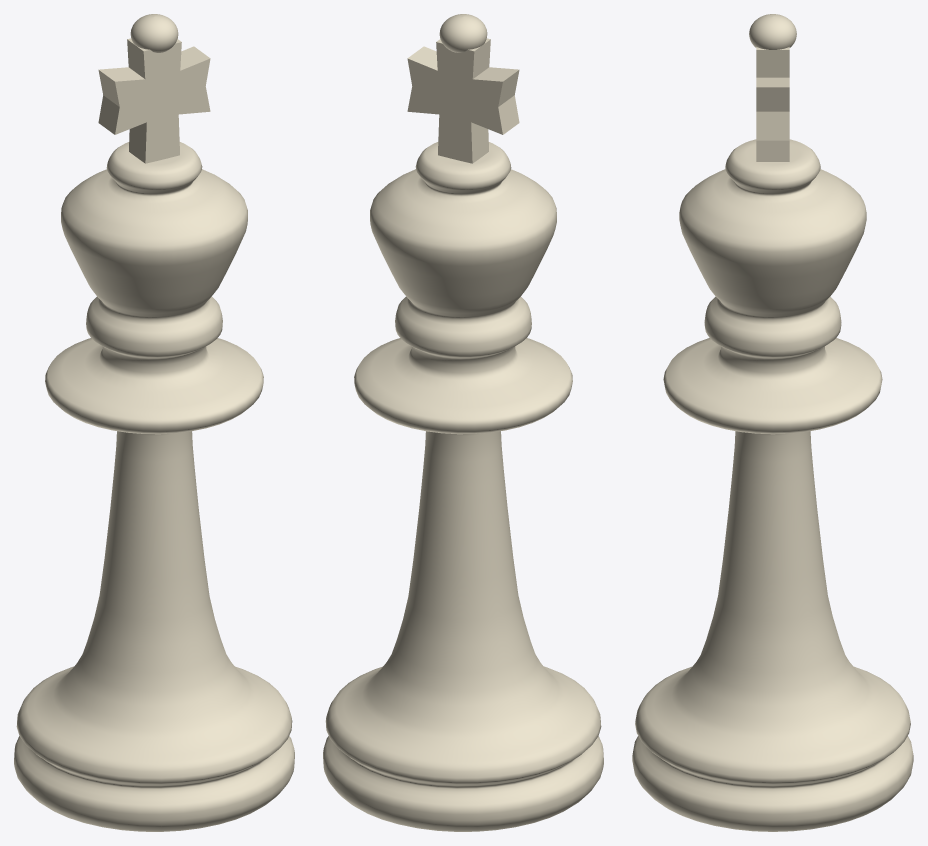
The model's file is white_king.glb.
The picture shows the model from 3 angles, left to right: view 1: azimuth 30°, elevation 25°; view 2: azimuth 150°, elevation 25°; view 3: azimuth 270°, elevation 25°; orthographic projection.
Parts seen in each view (by area): view 1: white king; view 2: white king; view 3: white king.
Part boxes in pixels (left/top/right/bottom): white king: left=14, top=14, right=294, bottom=831; white king: left=323, top=14, right=603, bottom=831; white king: left=632, top=14, right=913, bottom=831.
Bounding box in the file's own units: 0.0382 × 0.1151 × 0.0382.
